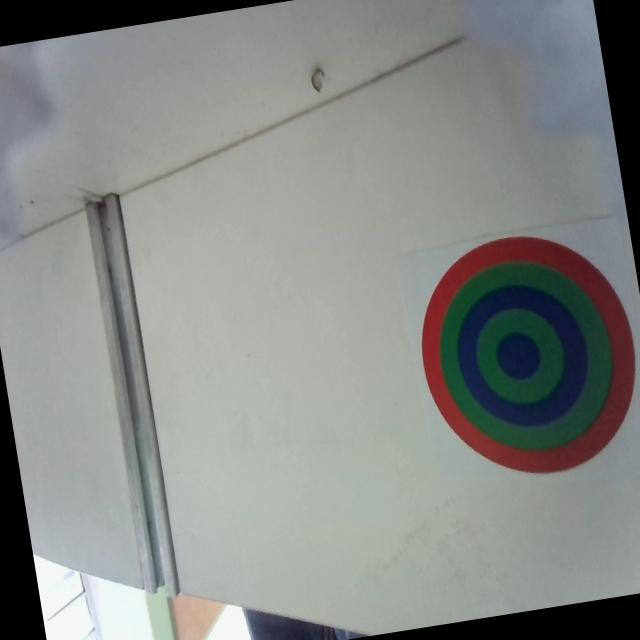cogn: (404, 221, 640, 491)
